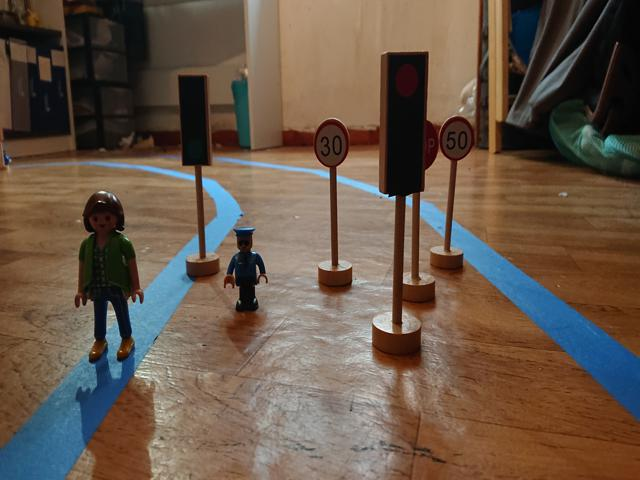30 speed sign: (309, 116, 352, 169)
50 speed sign: (442, 118, 476, 160)
green light: (179, 77, 209, 165)
person: (72, 185, 148, 360), (220, 227, 271, 317)
red light: (386, 57, 424, 183)
stop sign: (424, 122, 438, 172)
